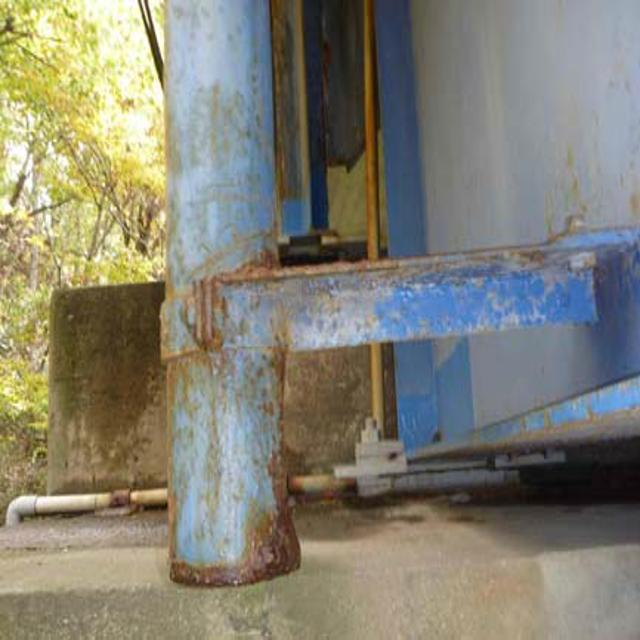spalling: (160, 254, 301, 590)
